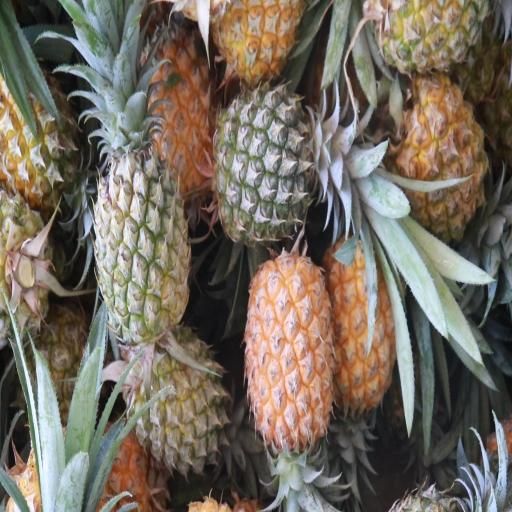------------------------------: (90, 124, 188, 324), (132, 327, 226, 470)
Pineapple - v8 v1: (245, 247, 336, 440), (397, 72, 486, 225), (330, 231, 404, 399), (143, 22, 218, 178)
